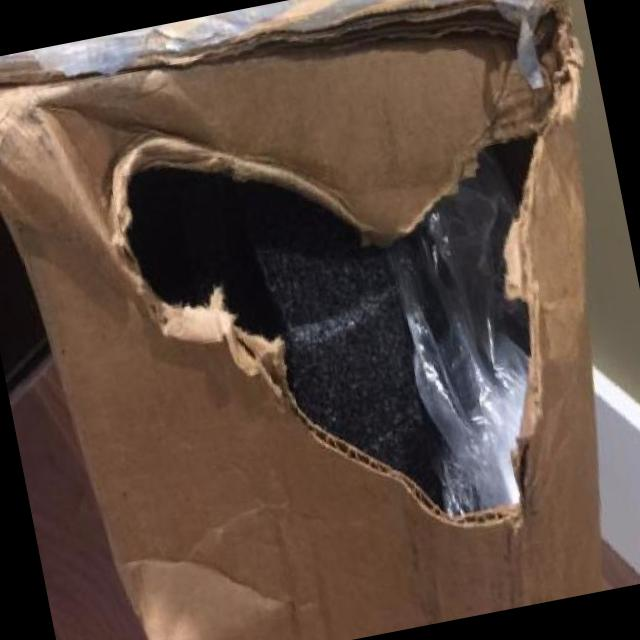crushed: (107, 541, 310, 640)
tear: (89, 85, 545, 529)
